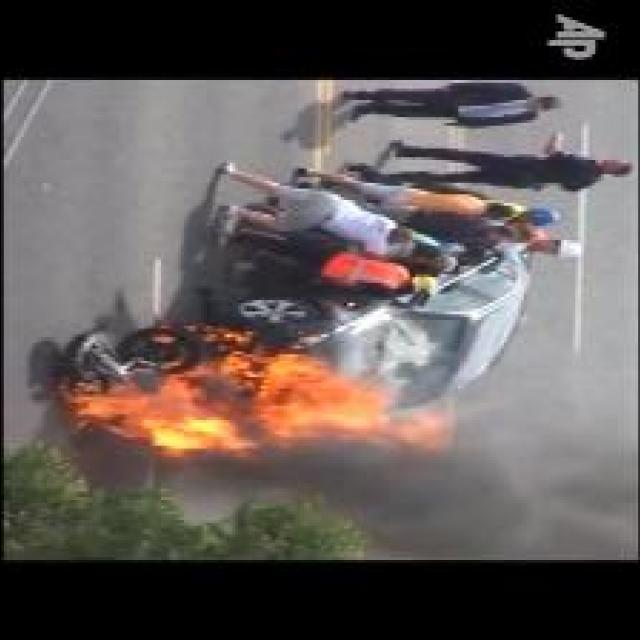Fire: (61, 332, 448, 458)
